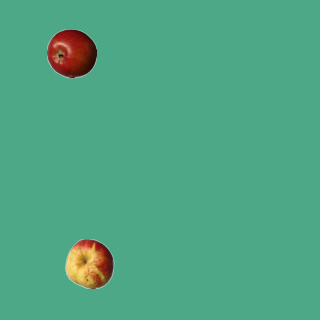Apple Braeburn: (46, 28, 96, 78)
Apple Red Yellow 1: (64, 238, 114, 288)
